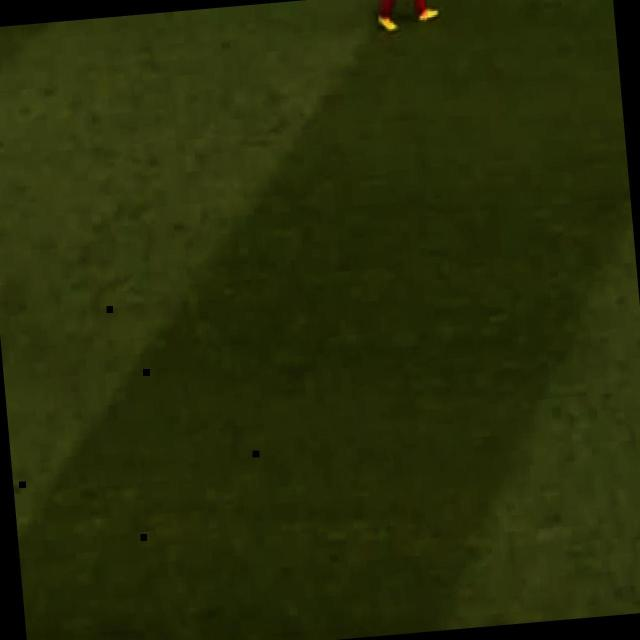player-white: (375, 0, 440, 32)
